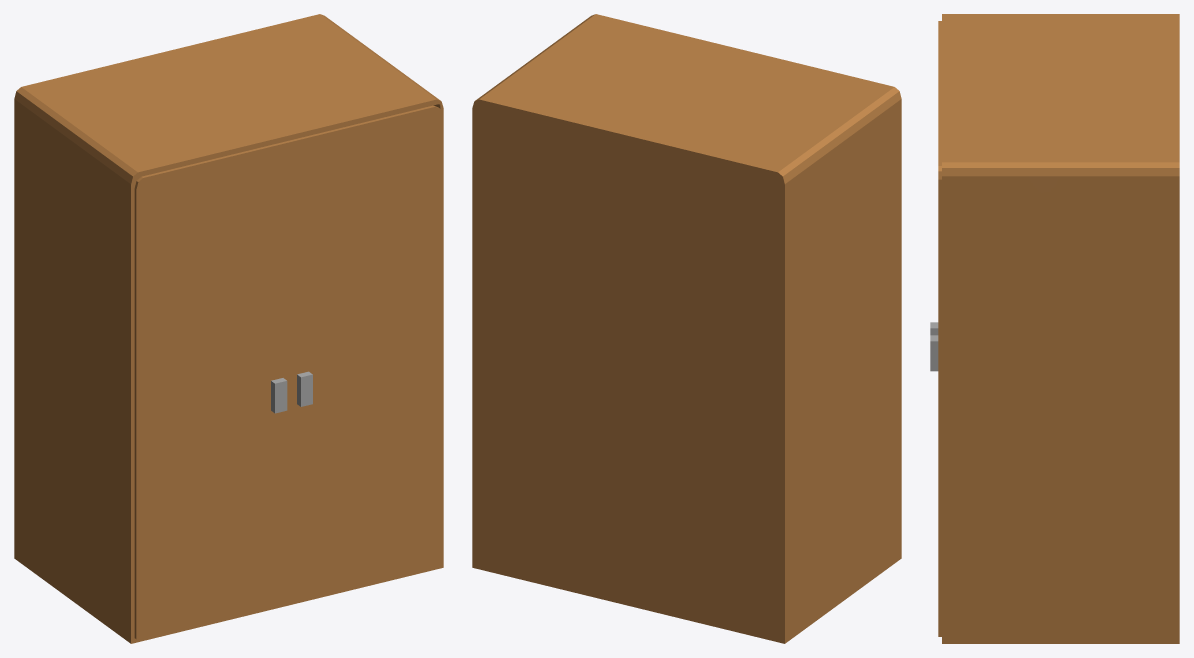
File: mueble0.fbx
3 views of the same model, side by side, from view 1: azimuth 30°, elevation 25°; view 2: azimuth 150°, elevation 25°; view 3: azimuth 270°, elevation 25° (orthographic).
Visible parts, largest first — view 1: Closet; view 2: Closet; view 3: Closet.
Part boxes in pixels (<box>): Closet: <box>14,14,443,643</box>; Closet: <box>472,14,901,643</box>; Closet: <box>930,14,1179,643</box>.
Size of the model in its own units: 271 by 389 by 184.
1 material, 1 textured.
